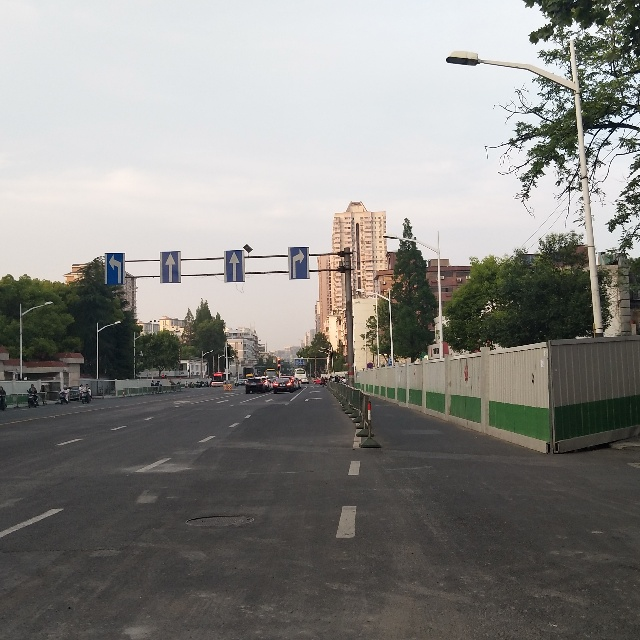left: (104, 253, 125, 285)
right: (288, 247, 310, 280)
straight: (224, 250, 245, 283), (160, 251, 181, 283)
